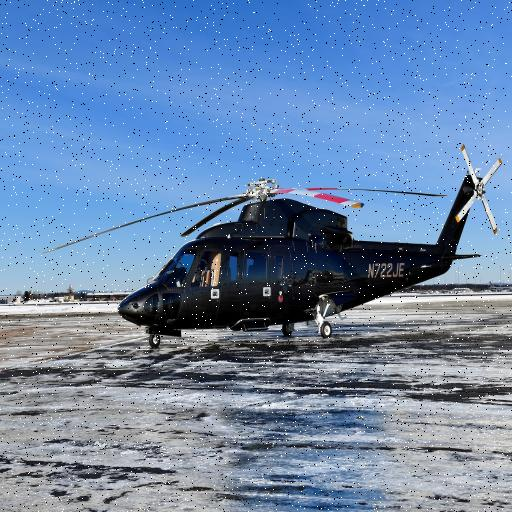helicopter: (43, 147, 503, 350)
